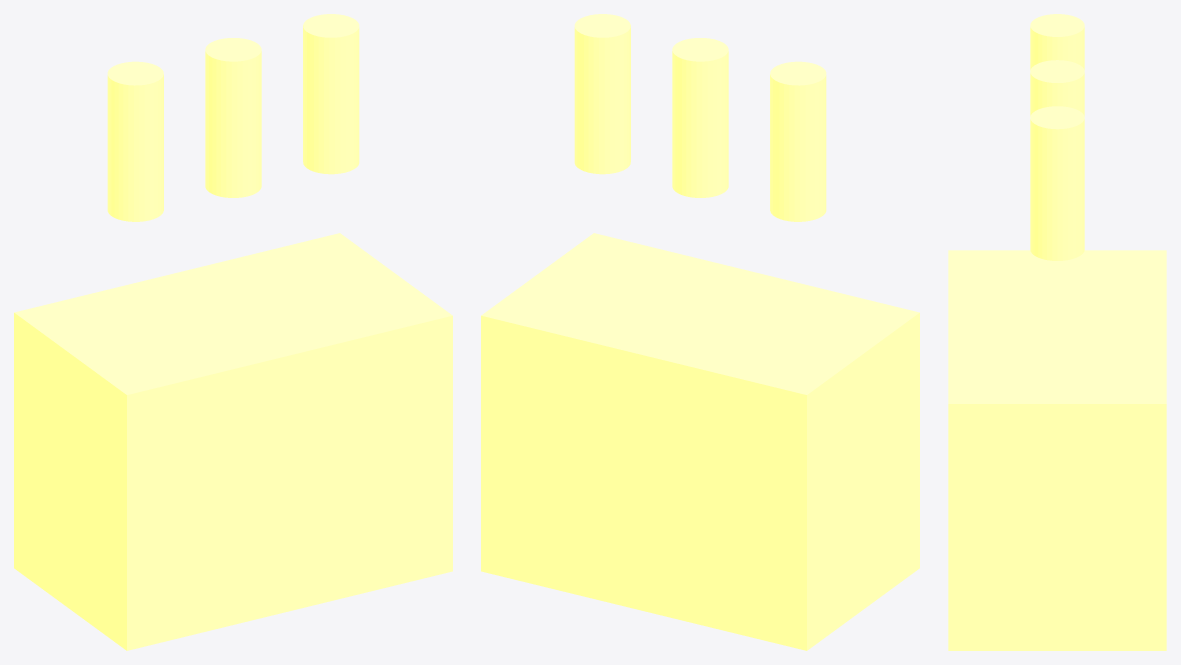
The model's file is SM_AmmoPickup.glb.
3 renders of one model, left to right at view 1: azimuth 30°, elevation 25°; view 2: azimuth 150°, elevation 25°; view 3: azimuth 270°, elevation 25°, orthographic. The views are drawn at different scales.
Parts seen in each view (by area): view 1: SM_AmmoPickup; view 2: SM_AmmoPickup; view 3: SM_AmmoPickup.
Part boxes in pixels (x1=…): SM_AmmoPickup: x1=14, y1=14, x2=452, y2=650; SM_AmmoPickup: x1=481, y1=14, x2=919, y2=650; SM_AmmoPickup: x1=948, y1=14, x2=1166, y2=650.
Bounding box in the file's own units: 0.2 × 0.305 × 0.12.
